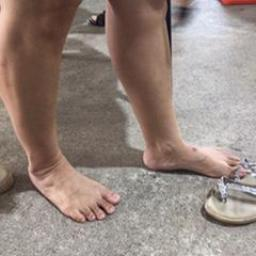Medial View -Left Foot-: (129, 110, 246, 181)
